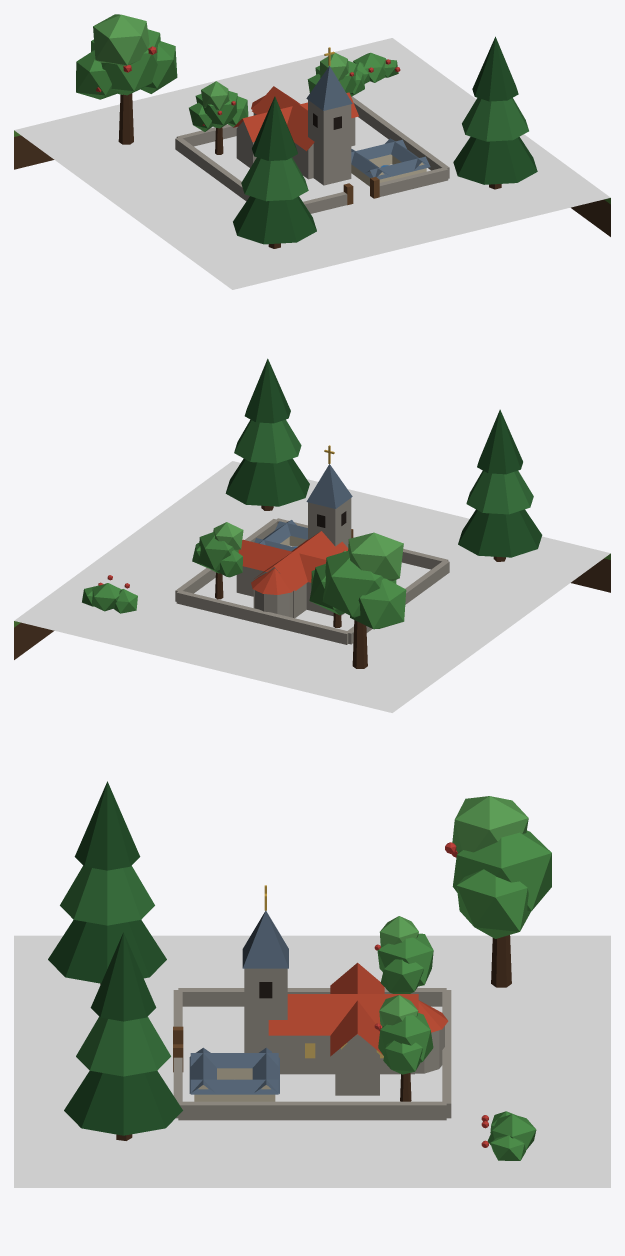
The model's file is fort.glb.
3 renders of one model, top to bottom at view 1: azimuth 30°, elevation 25°; view 2: azimuth 150°, elevation 25°; view 3: azimuth 270°, elevation 25°, orthographic. The views are drawn at different scales.
Visible parts, largest first — view 1: fort; view 2: fort; view 3: fort.
Boxes of the visible parts, left/top/right/bottom form: fort: left=14, top=14, right=610, bottom=289; fort: left=14, top=358, right=610, bottom=712; fort: left=14, top=781, right=610, bottom=1187.
Size of the model in its own units: 2 by 0.96 by 2.
